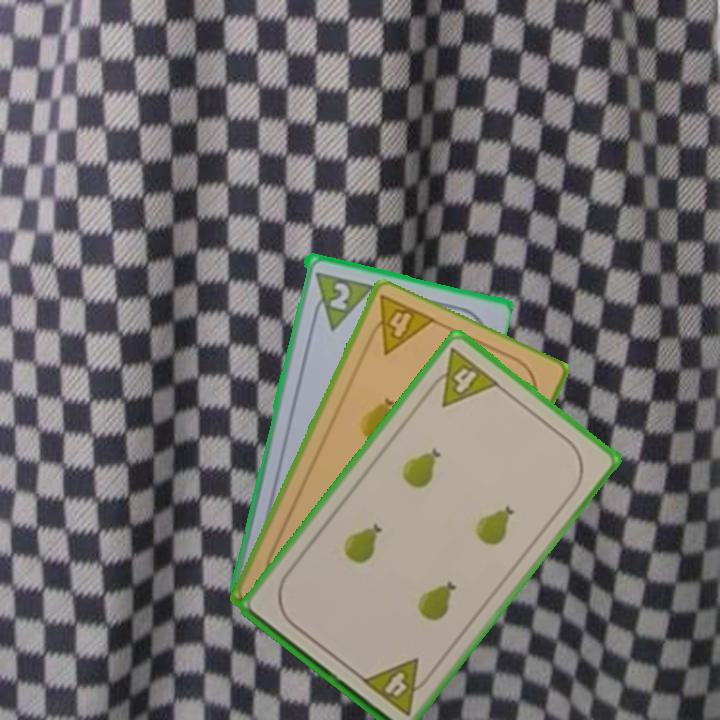2p: (325, 278, 353, 313)
4p: (422, 344, 502, 410), (360, 291, 438, 358), (358, 654, 436, 719)
